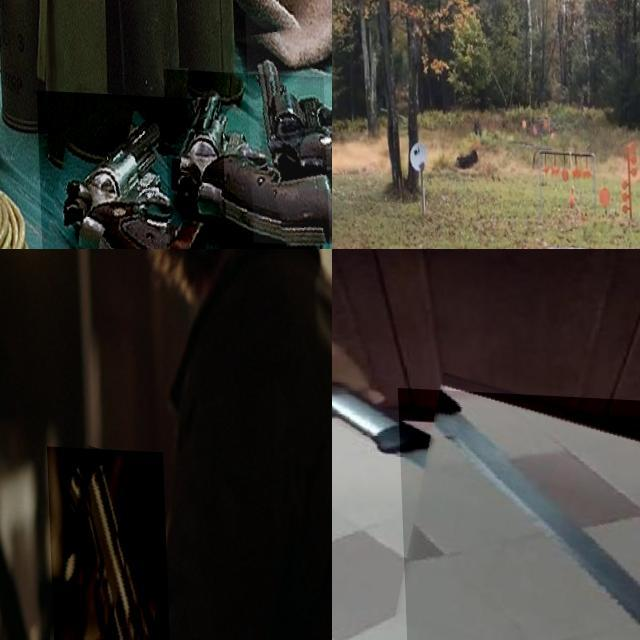-: (396, 385, 640, 640)
gun-knife-thesis - v11 Yolov5 augmented: (34, 88, 226, 249), (161, 65, 327, 249), (44, 443, 167, 640), (243, 10, 332, 244)
